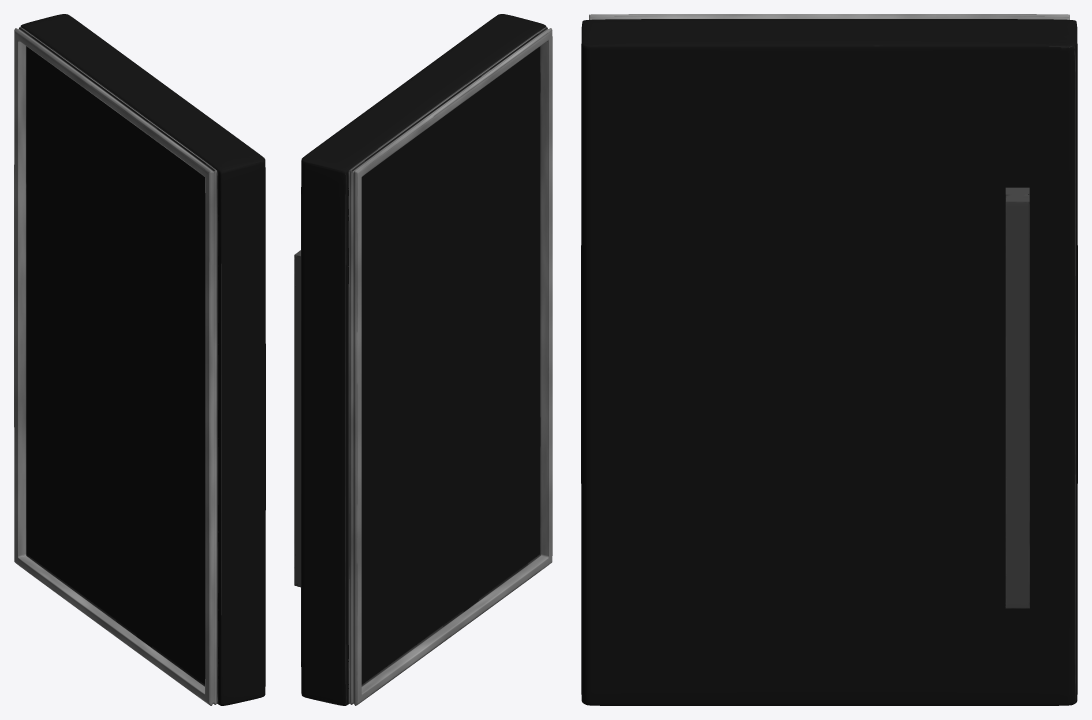
The model's file is Anta.obj.
3 renders of one model, left to right at view 1: azimuth 30°, elevation 25°; view 2: azimuth 150°, elevation 25°; view 3: azimuth 270°, elevation 25°, orthographic. The views are drawn at different scales.
Visible parts, largest first — view 1: Bake; view 2: Bake; view 3: Bake.
Part boxes in pixels (x1=…): Bake: x1=14, y1=14, x2=265, y2=705; Bake: x1=294, y1=14, x2=552, y2=705; Bake: x1=581, y1=14, x2=1077, y2=705.
Bounding box in the file's own units: 0.5397 × 3.49 × 2.37.
Materials: 1 (1 with a texture image).
